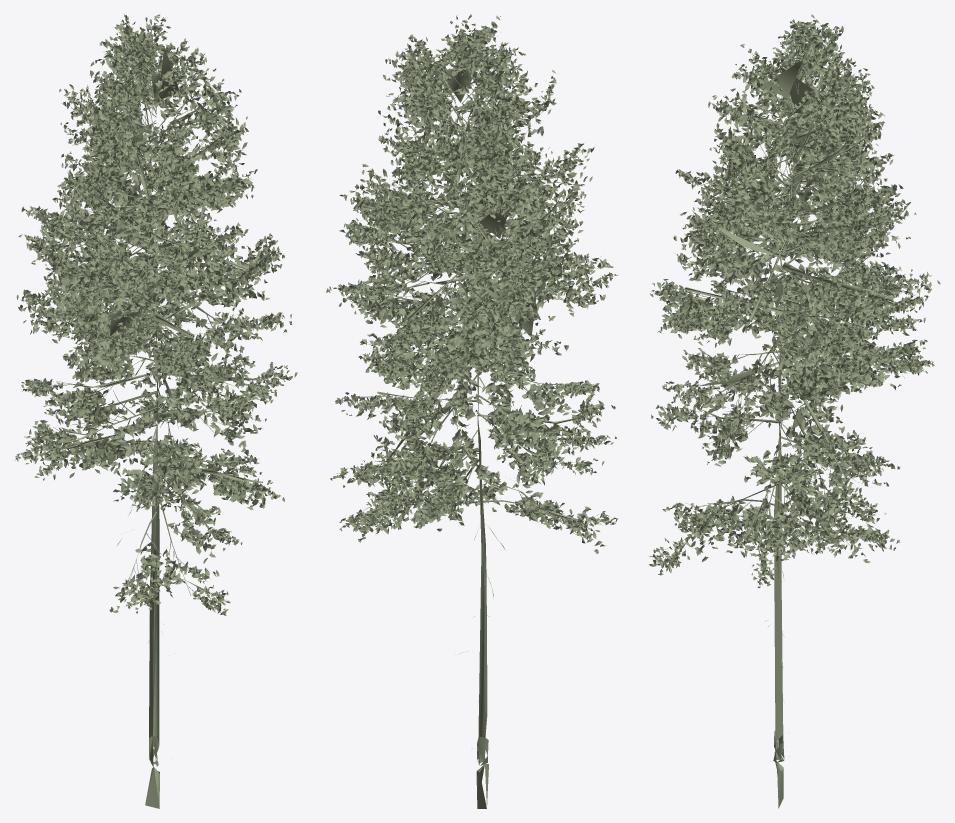
Rendered from conifer-lod0.glb.
The picture shows the model from 3 angles, left to right: view 1: azimuth 30°, elevation 25°; view 2: azimuth 150°, elevation 25°; view 3: azimuth 270°, elevation 25°; orthographic projection. The views are drawn at different scales.
Visible parts, largest first — view 1: Preserved fir needles, fir_tree_01_a_LOD0; view 2: Preserved fir needles, fir_tree_01_a_LOD0; view 3: Preserved fir needles, fir_tree_01_a_LOD0.
Part boxes in pixels (x1,y1,x2,y2): Preserved fir needles: (15, 14, 297, 615); fir_tree_01_a_LOD0: (25, 36, 279, 808); Preserved fir needles: (326, 14, 618, 553); fir_tree_01_a_LOD0: (337, 32, 605, 808); Preserved fir needles: (649, 14, 940, 587); fir_tree_01_a_LOD0: (656, 39, 922, 808).
Size of the model in its own units: 6.45 by 18.68 by 6.33.
